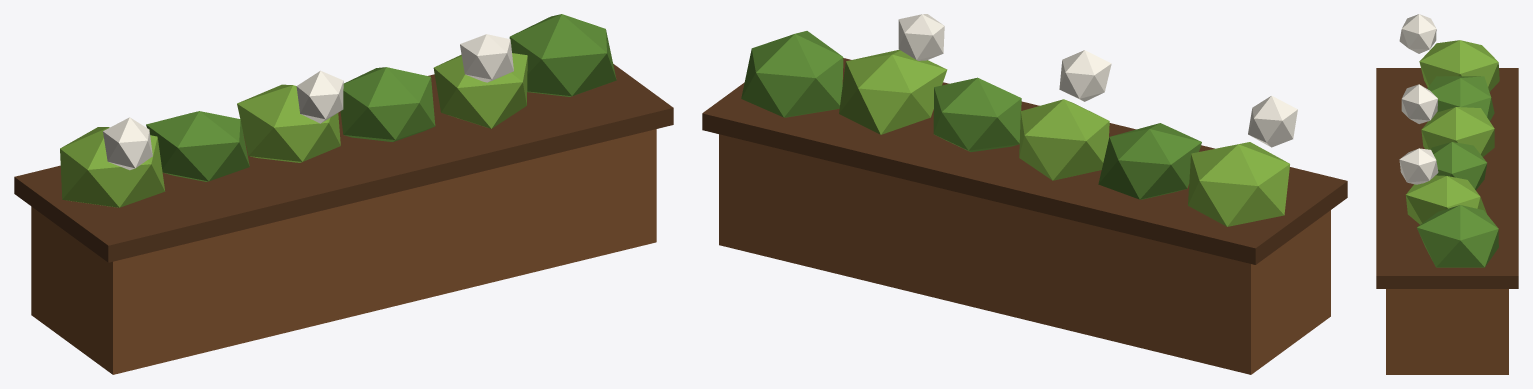
Rendered from Flower_Box.fbx.
3 renders of one model, left to right at view 1: azimuth 30°, elevation 25°; view 2: azimuth 150°, elevation 25°; view 3: azimuth 270°, elevation 25°, orthographic. The views are drawn at different scales.
Parts seen in each view (by area): view 1: Flower_Box; view 2: Flower_Box; view 3: Flower_Box.
Boxes of the visible parts, x1,y1,x2,y2 form: Flower_Box: (14, 14, 673, 374); Flower_Box: (702, 14, 1347, 374); Flower_Box: (1376, 14, 1518, 374).
Size of the model in its own units: 1.04 by 0.4084 by 0.3.
